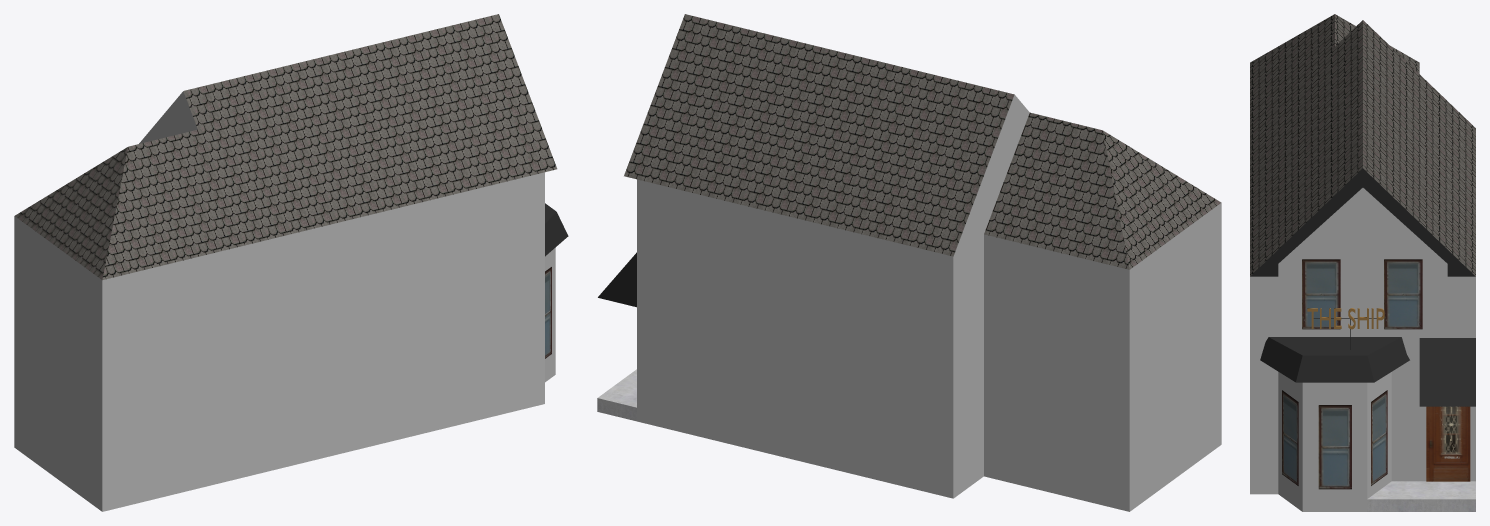
File: 23Augusta.fbx
The picture shows the model from 3 angles, left to right: view 1: azimuth 30°, elevation 25°; view 2: azimuth 150°, elevation 25°; view 3: azimuth 270°, elevation 25°; orthographic projection. The views are drawn at different scales.
Parts seen in each view (by area): view 1: SketchUp.002, SketchUp.001, Cube, Plane.001; view 2: SketchUp.002, SketchUp.001, SketchUp.007, SketchUp.003; view 3: SketchUp.001, SketchUp.002, Cube, SketchUp.003, SketchUp.006, Plane.003, SketchUp.007, Plane, Plane.005, Plane.004, Plane.001, Plane.002 (+1 smaller).
Part boxes in pixels (x1,y1,x2,y2): SketchUp.002: (14,91,555,511); SketchUp.001: (15,14,557,280); Cube: (545,203,568,256); Plane.001: (545,267,551,358); SketchUp.002: (637,95,1221,511); SketchUp.001: (624,14,1221,269); SketchUp.007: (597,369,636,421); SketchUp.003: (598,252,636,307); SketchUp.001: (1250,14,1475,276); SketchUp.002: (1250,188,1475,511); Cube: (1260,337,1409,382); SketchUp.003: (1419,338,1475,406); SketchUp.006: (1250,168,1475,276); Plane.003: (1426,406,1470,481); SketchUp.007: (1367,481,1475,511); Plane: (1318,405,1351,489); Plane.005: (1384,259,1422,329); Plane.004: (1302,259,1340,329); Plane.001: (1282,390,1298,485); Plane.002: (1371,390,1387,485).
Size of the model in its own units: 1183 by 794 by 490.
